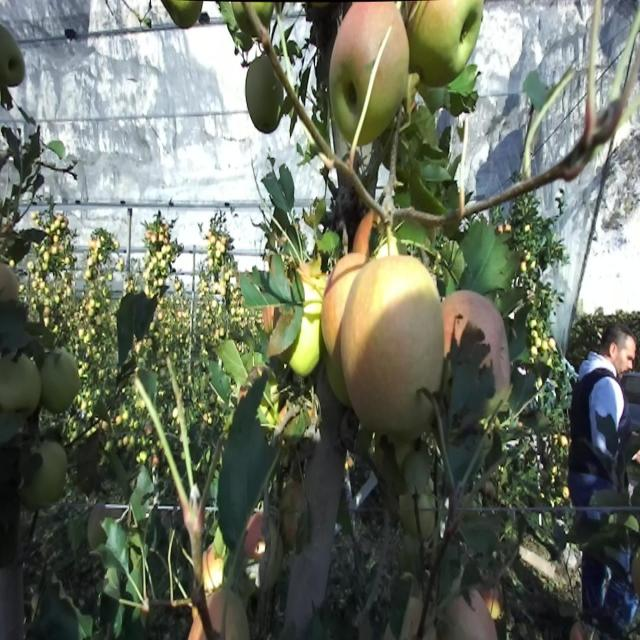apple: (336, 1, 420, 142), (408, 0, 484, 91), (408, 6, 464, 91), (288, 276, 326, 379), (288, 300, 323, 379), (0, 355, 42, 418), (248, 63, 283, 137), (32, 440, 69, 510), (322, 269, 352, 354), (356, 86, 392, 153), (44, 355, 79, 416), (296, 255, 326, 325), (332, 88, 364, 149), (324, 342, 353, 409), (444, 291, 471, 359), (584, 99, 619, 149), (356, 111, 387, 155), (0, 355, 21, 414), (20, 362, 42, 418), (204, 547, 225, 601), (168, 0, 203, 32), (244, 518, 267, 564), (4, 49, 27, 91), (0, 269, 20, 306), (188, 611, 206, 638), (632, 554, 640, 597)
